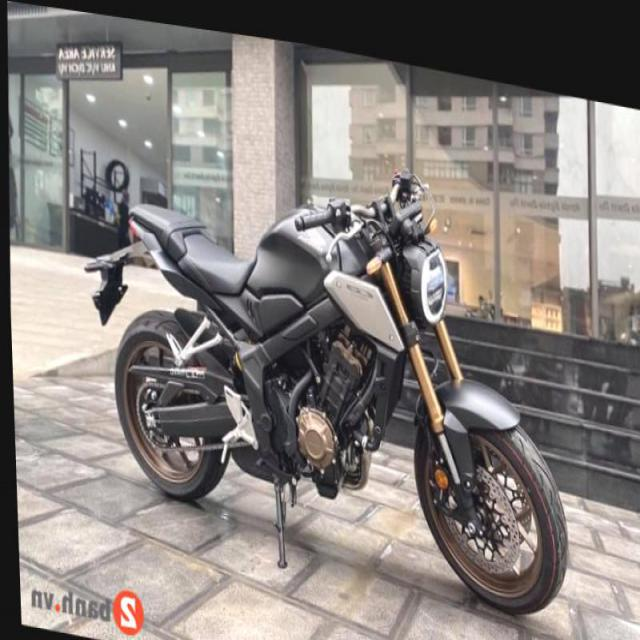CB650R: (98, 135, 577, 603)
